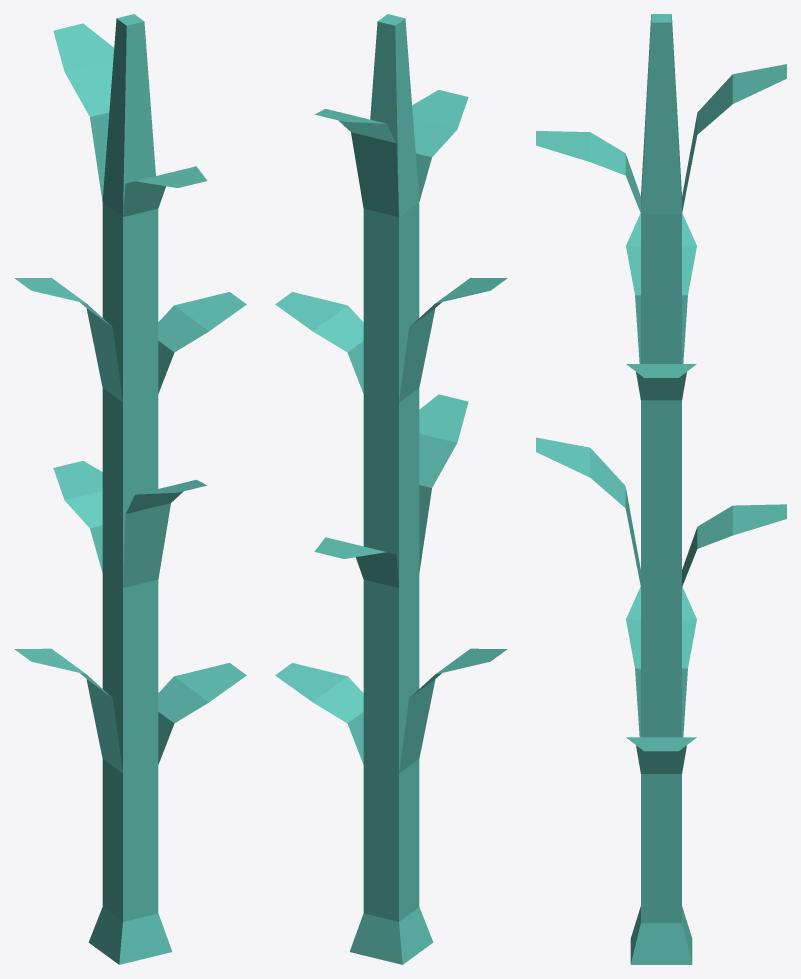
File: crops_cornStageC.glb
3 views of the same model, side by side, from view 1: azimuth 30°, elevation 25°; view 2: azimuth 150°, elevation 25°; view 3: azimuth 270°, elevation 25° (orthographic).
Parts seen in each view (by area): view 1: crops_cornStageC; view 2: crops_cornStageC; view 3: crops_cornStageC.
Part boxes in pixels (left/top/right/bottom): crops_cornStageC: left=14, top=14, right=246, bottom=964; crops_cornStageC: left=275, top=14, right=507, bottom=964; crops_cornStageC: left=536, top=14, right=786, bottom=964.
Bounding box in the file's own units: 0.3042 × 1.25 × 0.3042.
